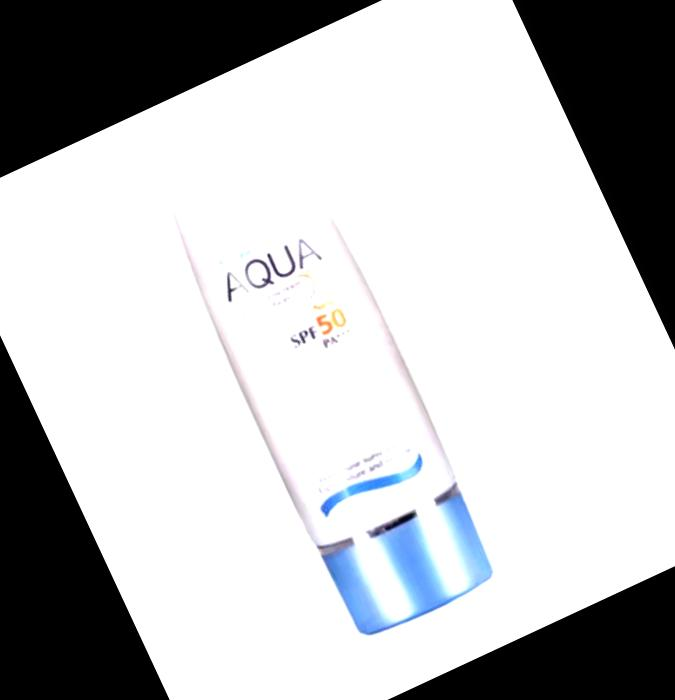cosmetic: (142, 107, 510, 643)
